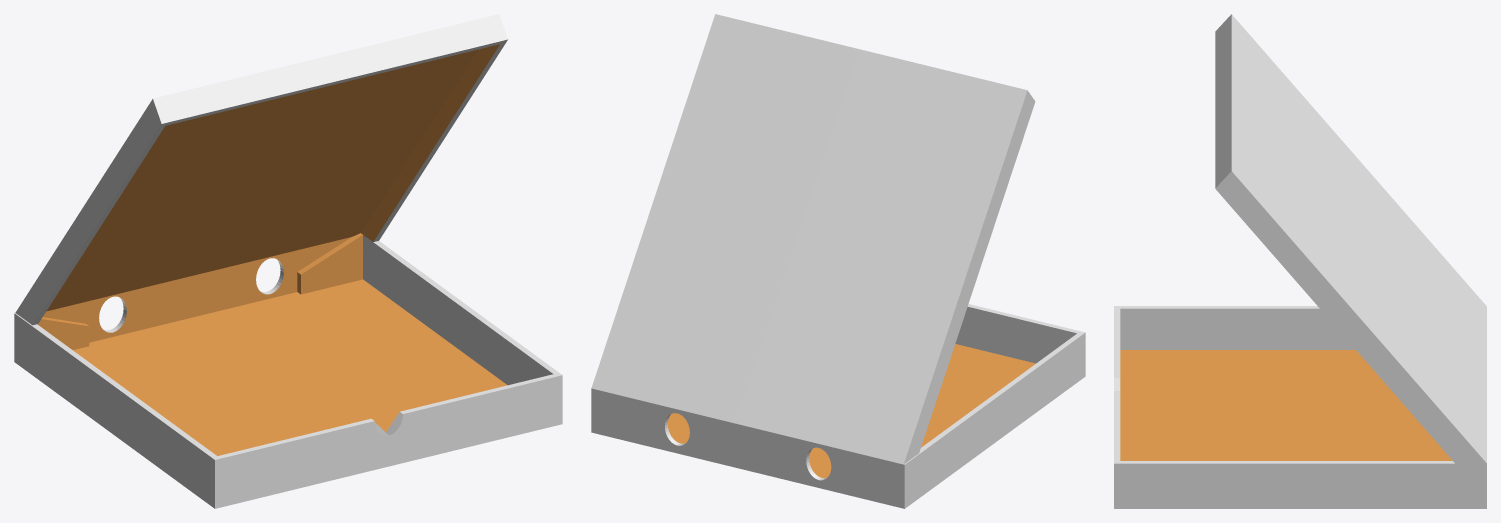
Rendered from SM_Pizza_box.fbx.
The picture shows the model from 3 angles, left to right: view 1: azimuth 30°, elevation 25°; view 2: azimuth 150°, elevation 25°; view 3: azimuth 270°, elevation 25°; orthographic projection. The views are drawn at different scales.
Visible parts, largest first — view 1: Pizza_Box; view 2: Pizza_Box; view 3: Pizza_Box.
Part boxes in pixels (x1,y1,x2,y2): Pizza_Box: (14,14,562,508); Pizza_Box: (591,14,1085,508); Pizza_Box: (1114,14,1486,508).
Bounding box in the file's own units: 0.36 × 0.36 × 0.36.
